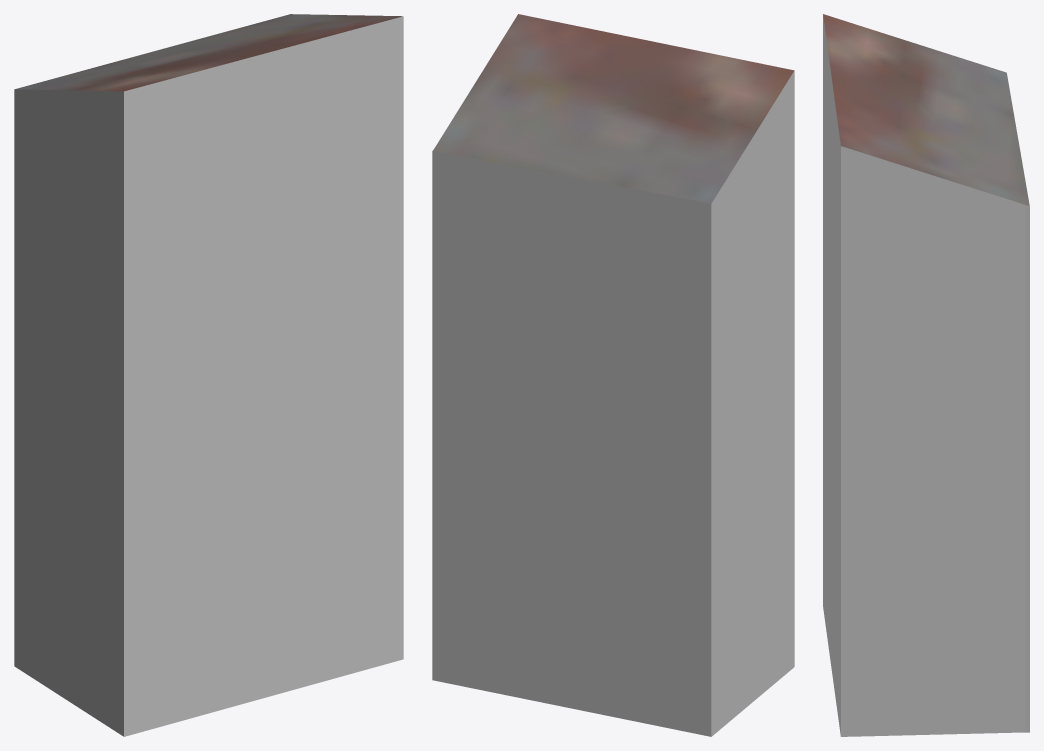
The model's file is DEBW_0010007THZ7.gltf.
The picture shows the model from 3 angles, left to right: view 1: azimuth 30°, elevation 25°; view 2: azimuth 150°, elevation 25°; view 3: azimuth 270°, elevation 25°; orthographic projection. The views are drawn at different scales.
Visible parts, largest first — view 1: Z_UP; view 2: Z_UP; view 3: Z_UP.
Part boxes in pixels (x1,y1,x2,y2): Z_UP: [14, 14, 403, 736]; Z_UP: [432, 14, 794, 736]; Z_UP: [823, 14, 1029, 736].
Bounding box in the file's own units: 3.58 × 7.38 × 2.33.
2 materials, 1 textured.
